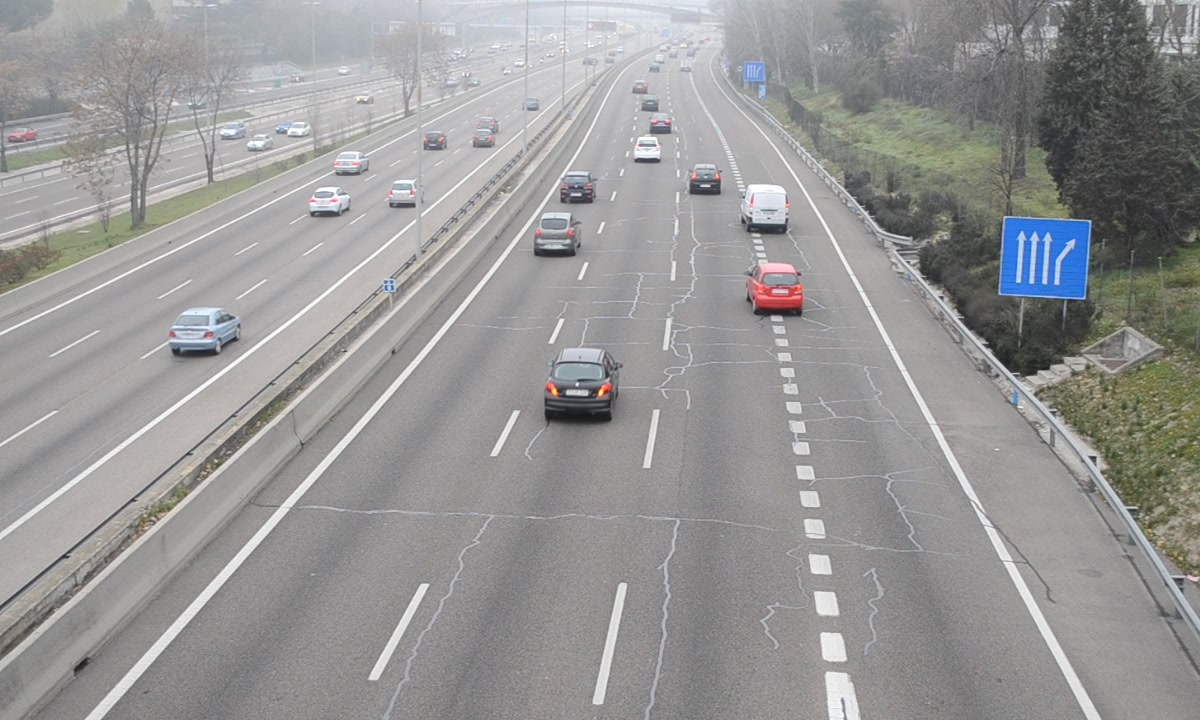car: (544, 350, 617, 418), (748, 261, 801, 312), (533, 212, 582, 259), (558, 171, 597, 206), (688, 163, 723, 196), (632, 133, 662, 163)
van: (740, 183, 790, 235)
